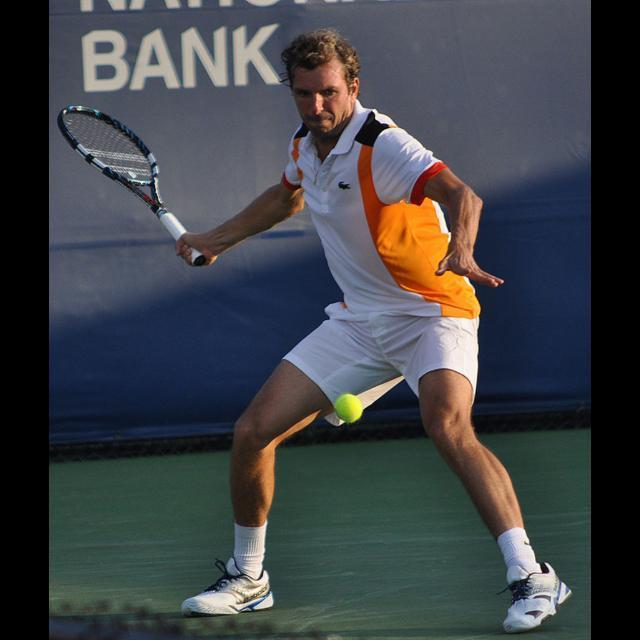tennis-ball: (332, 393, 365, 424)
